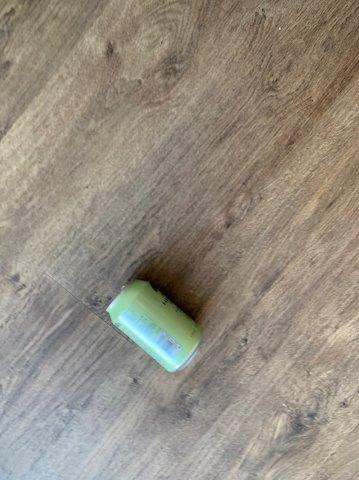kaleng: (107, 280, 199, 371)
